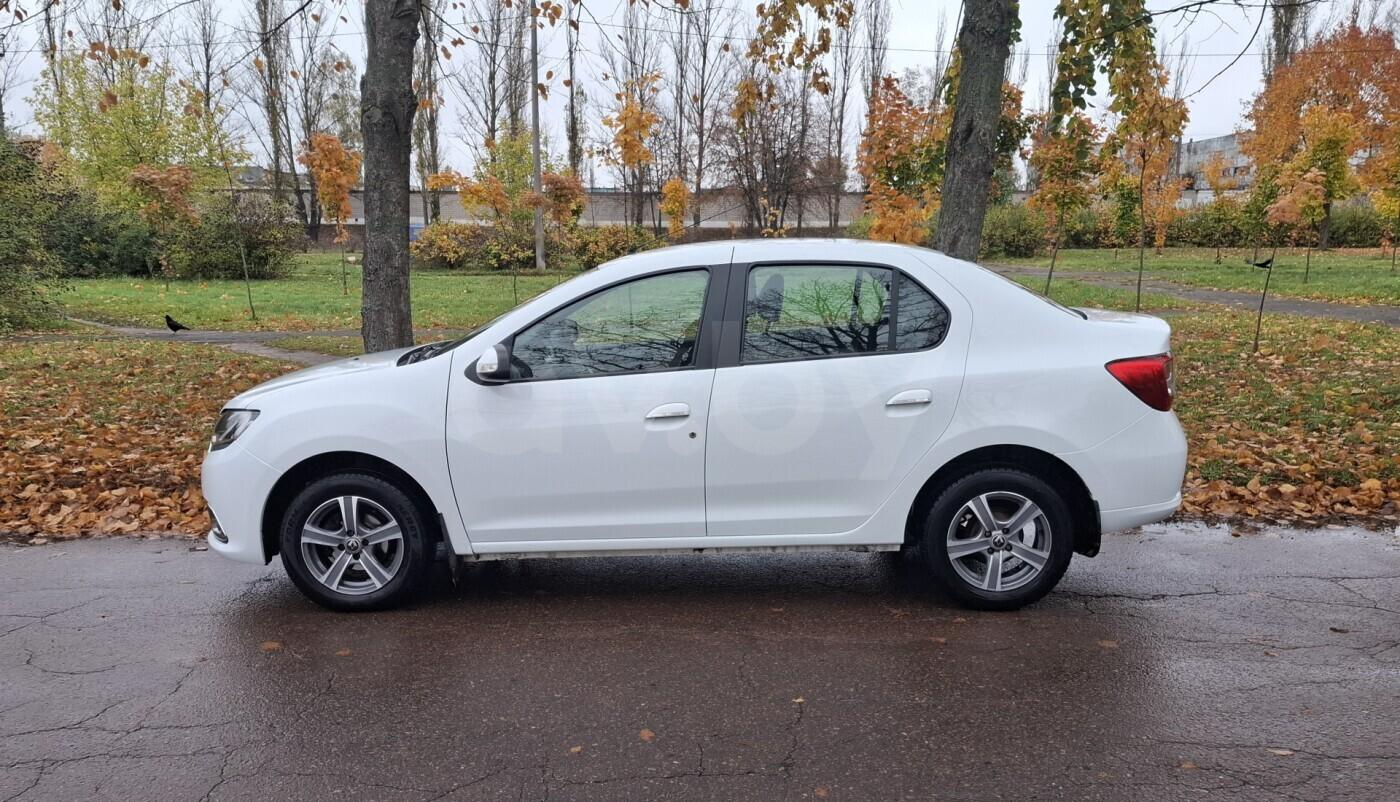Logan_2013-2018: (192, 236, 1199, 610)
